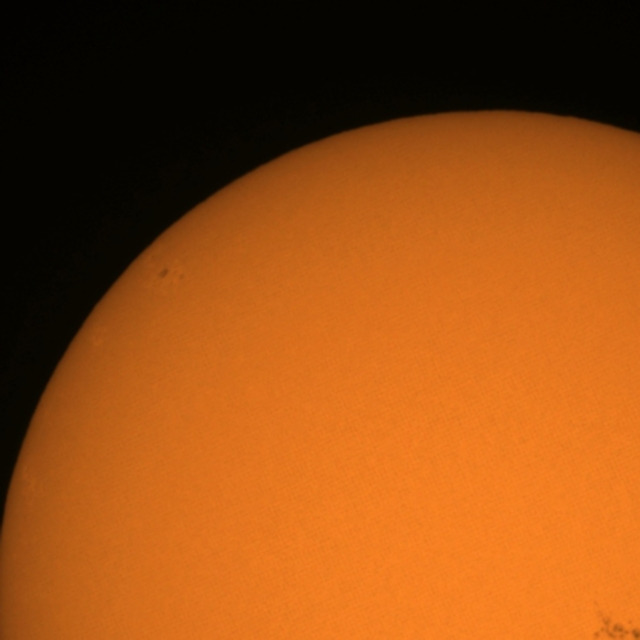sunspot: (591, 616, 640, 640), (158, 266, 186, 284)
